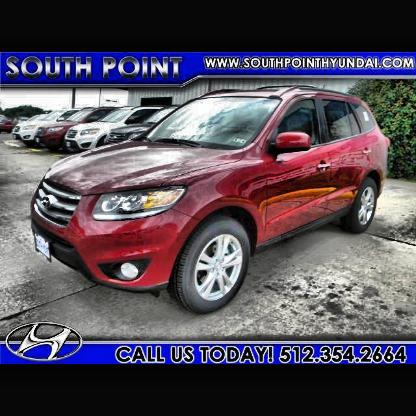Hyundai Santa Fe SUV 2012: (32, 84, 388, 314)
